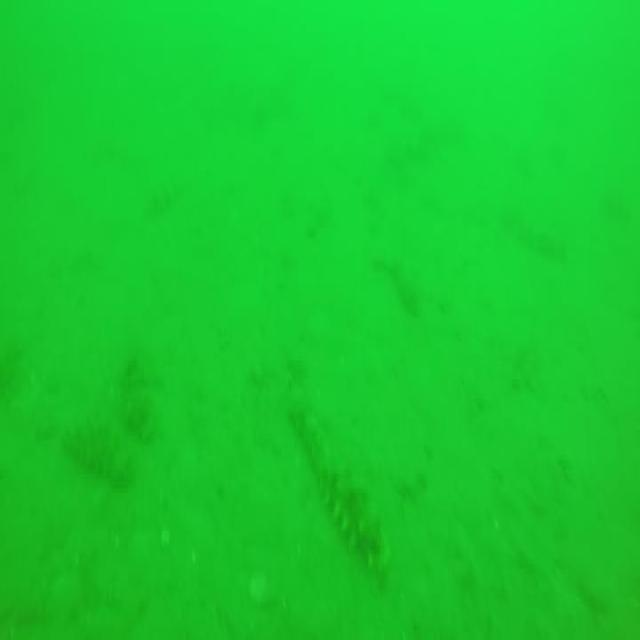holothurian: (290, 417, 390, 593), (65, 418, 137, 486)
